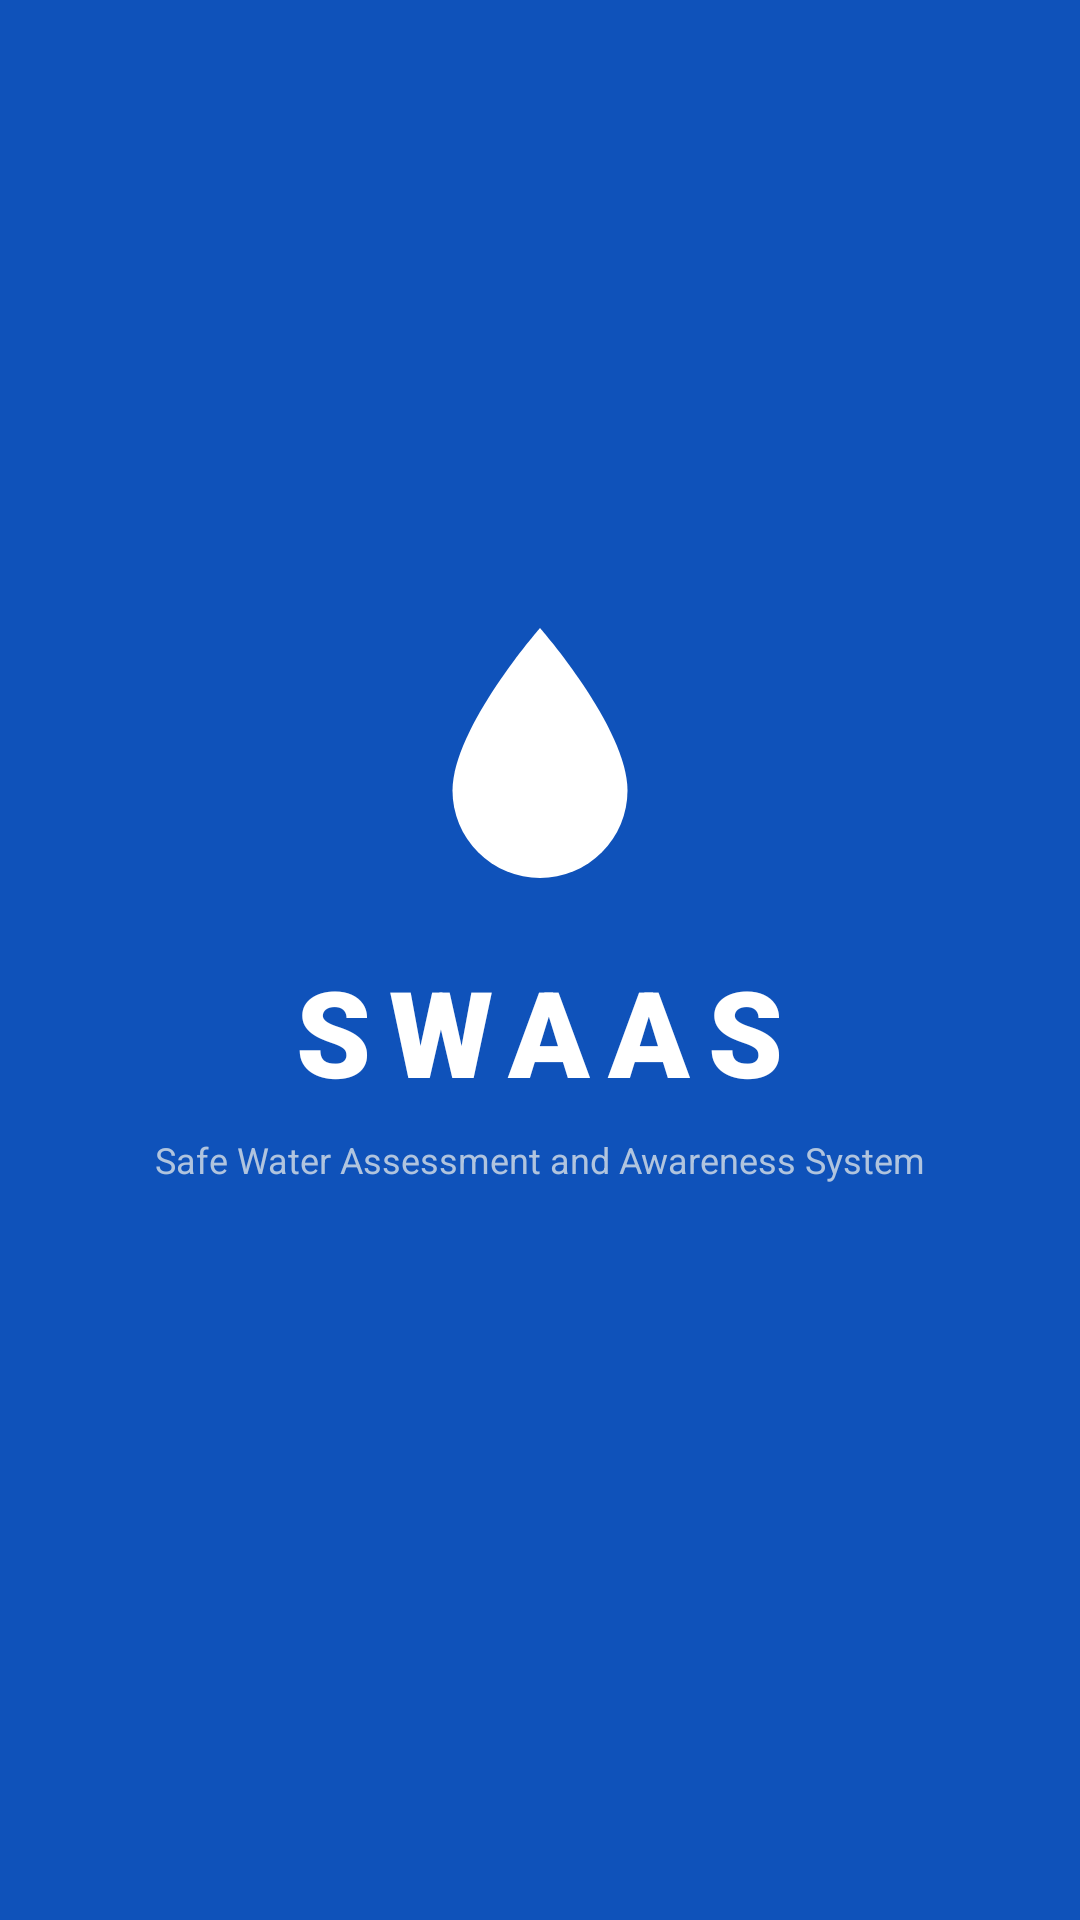

Screen size 1080px×1920px. Icon name, then its box in pixels as (x1, y1, x2, y2):
water drop: (452, 628, 628, 878)
